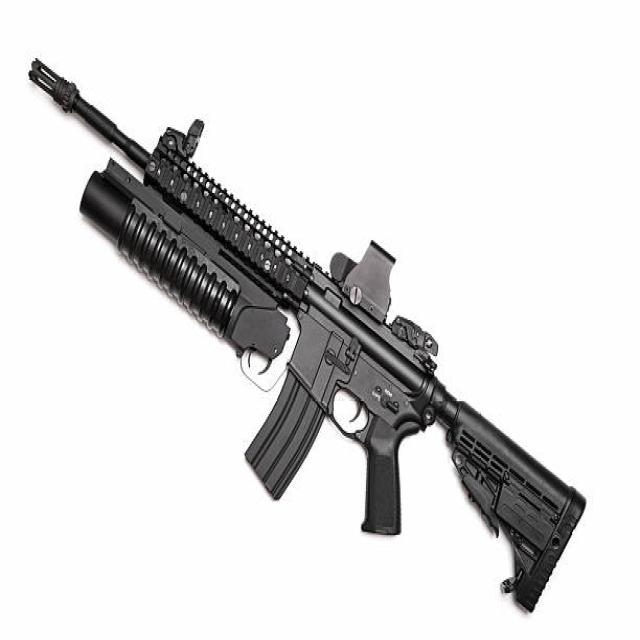rifle: (27, 53, 598, 629)
